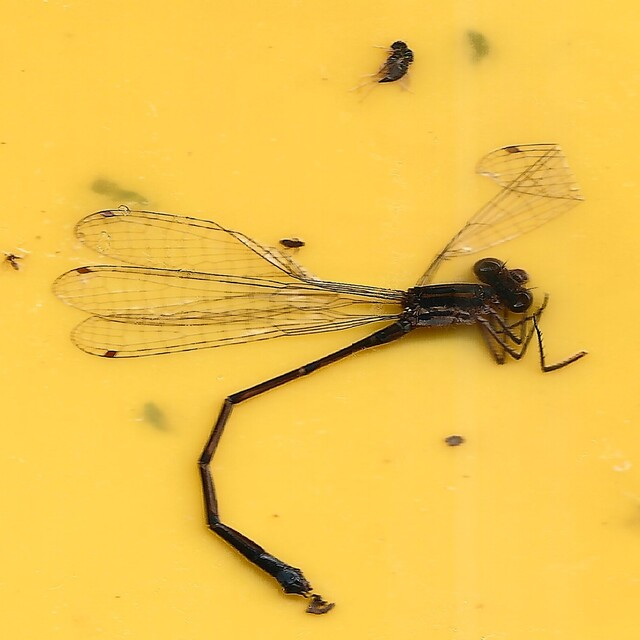Brachycera: (373, 41, 417, 95)
Odonata: (51, 144, 589, 599)
